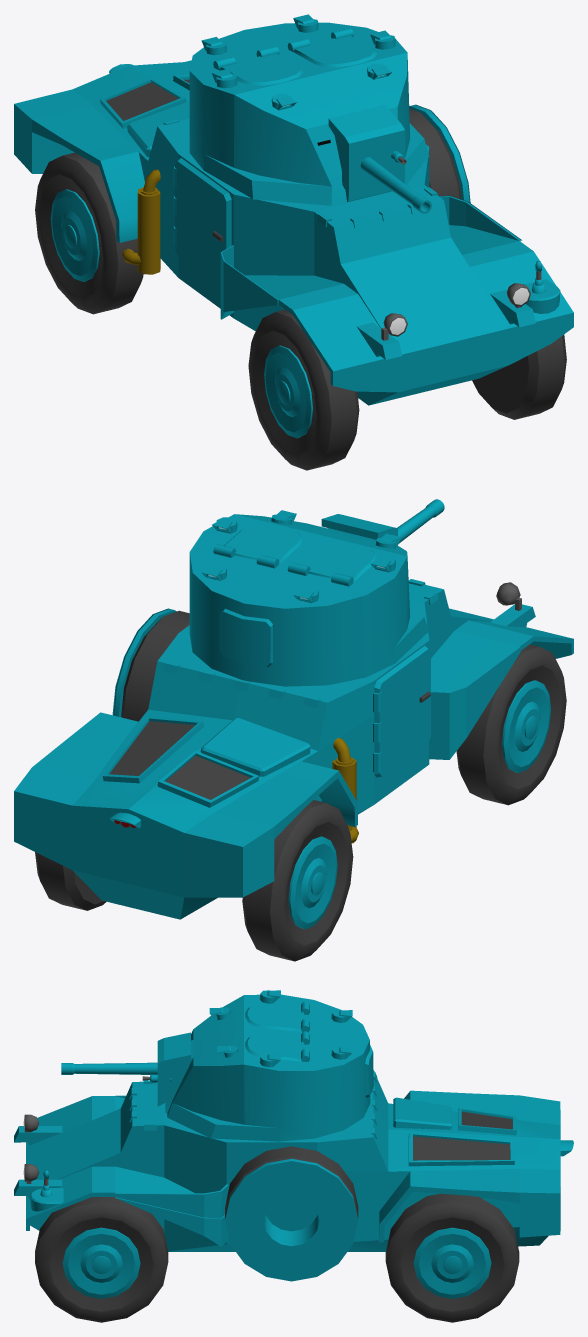
File: Enemy_vehicle_START.fbx
3 views of the same model, one above another, from view 1: azimuth 30°, elevation 25°; view 2: azimuth 150°, elevation 25°; view 3: azimuth 270°, elevation 25° (orthographic). The views are drawn at different scales.
Parts seen in each view (by area): view 1: BODY, TURRET, FR, RR, FL; view 2: BODY, TURRET, RR, FR, RL; view 3: BODY, TURRET, RL, FL.
Boxes of the visible parts, left/top/right/bottom form: BODY: left=14, top=60, right=573, bottom=405; TURRET: left=189, top=14, right=431, bottom=213; FR: left=248, top=309, right=359, bottom=470; RR: left=35, top=152, right=143, bottom=314; FL: left=472, top=334, right=566, bottom=419; BODY: left=14, top=579, right=573, bottom=919; TURRET: left=189, top=499, right=444, bottom=686; RR: left=242, top=800, right=353, bottom=961; FR: left=456, top=644, right=566, bottom=805; RL: left=35, top=852, right=106, bottom=910; BODY: left=14, top=1070, right=573, bottom=1281; TURRET: left=61, top=990, right=373, bottom=1141; RL: left=385, top=1193, right=519, bottom=1322; FL: left=35, top=1197, right=168, bottom=1322.
Bounding box in the file's own units: 1979 × 2173 × 4389.
